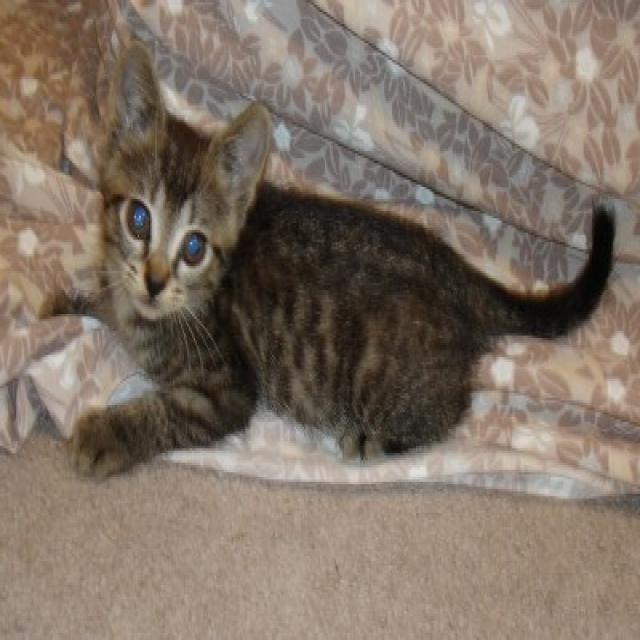Cats: (62, 36, 616, 479)
